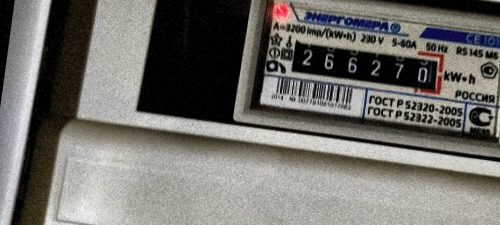0: (414, 63, 427, 85)
2: (298, 45, 315, 68), (367, 57, 382, 78)
6: (344, 54, 359, 74), (321, 51, 335, 72)
7: (390, 60, 404, 80)
screen: (276, 26, 455, 105)
